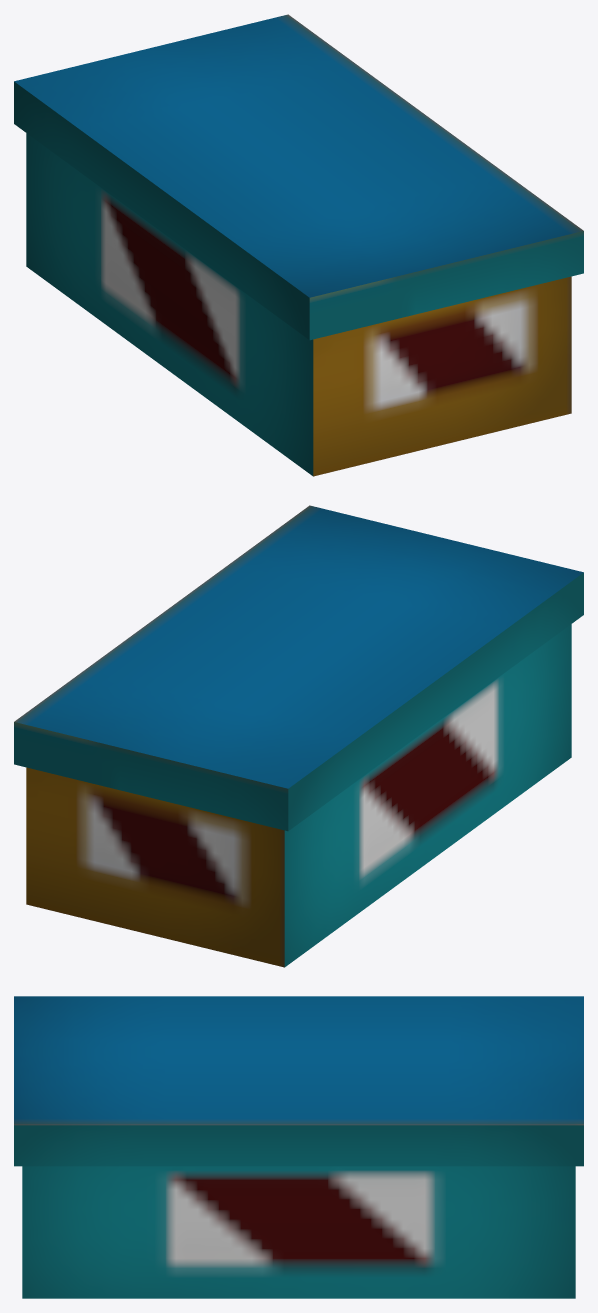
The model's file is ShoeBox.fbx.
3 renders of one model, top to bottom at view 1: azimuth 30°, elevation 25°; view 2: azimuth 150°, elevation 25°; view 3: azimuth 270°, elevation 25°, orthographic. The views are drawn at different scales.
Parts seen in each view (by area): view 1: Maya_File_Assets:TexturedAssetsCurrent:shoebox_with_shoe; view 2: Maya_File_Assets:TexturedAssetsCurrent:shoebox_with_shoe; view 3: Maya_File_Assets:TexturedAssetsCurrent:shoebox_with_shoe.
Part boxes in pixels (x1=…): Maya_File_Assets:TexturedAssetsCurrent:shoebox_with_shoe: x1=14, y1=14, x2=583, y2=476; Maya_File_Assets:TexturedAssetsCurrent:shoebox_with_shoe: x1=14, y1=505, x2=583, y2=967; Maya_File_Assets:TexturedAssetsCurrent:shoebox_with_shoe: x1=14, y1=996, x2=583, y2=1298.
Bounding box in the file's own units: 0.2288 × 0.1466 × 0.4273.
